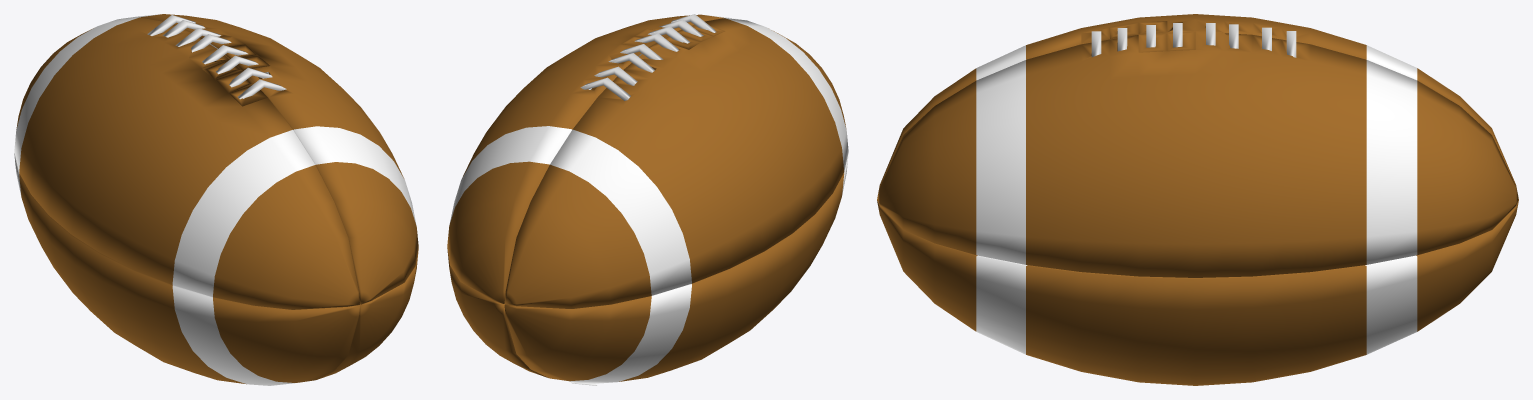
The model's file is rugby.glb.
3 views of the same model, side by side, from view 1: azimuth 30°, elevation 25°; view 2: azimuth 150°, elevation 25°; view 3: azimuth 270°, elevation 25° (orthographic). The views are drawn at different scales.
Parts seen in each view (by area): view 1: Sphere, Cube, Cube.007; view 2: Sphere, Cube.006, Cube.004, Cube.005; view 3: Sphere.
Boxes of the visible parts, bbox=[...] form: Sphere: bbox=[14, 14, 418, 385]; Cube: bbox=[238, 79, 286, 99]; Cube.007: bbox=[229, 67, 272, 87]; Sphere: bbox=[447, 14, 848, 385]; Cube.006: bbox=[580, 77, 630, 100]; Cube.004: bbox=[608, 53, 654, 72]; Cube.005: bbox=[588, 66, 637, 89]; Sphere: bbox=[877, 14, 1518, 385].
Bounding box in the file's own units: 2.08 × 2.13 × 3.59.
